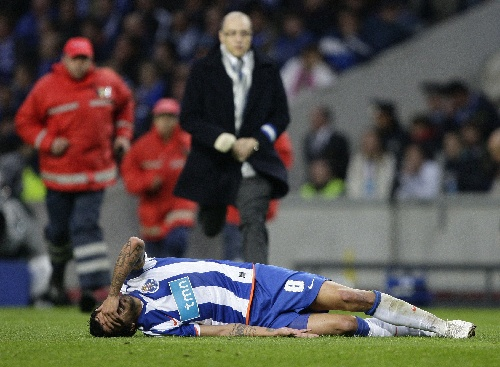10+: (1, 1, 499, 340)
down: (82, 235, 478, 341)
